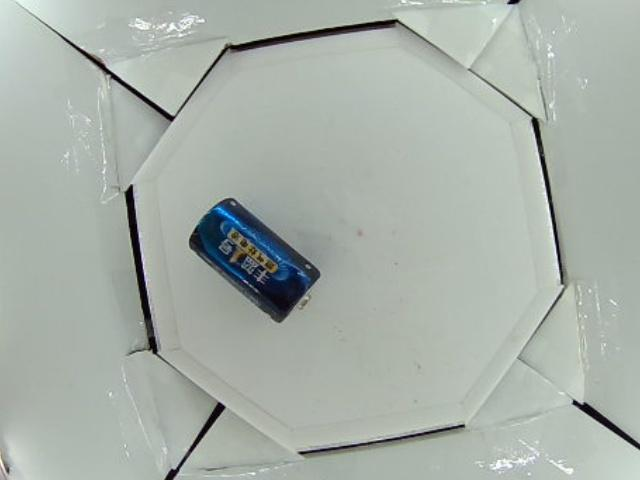Battery: (188, 195, 319, 324)
